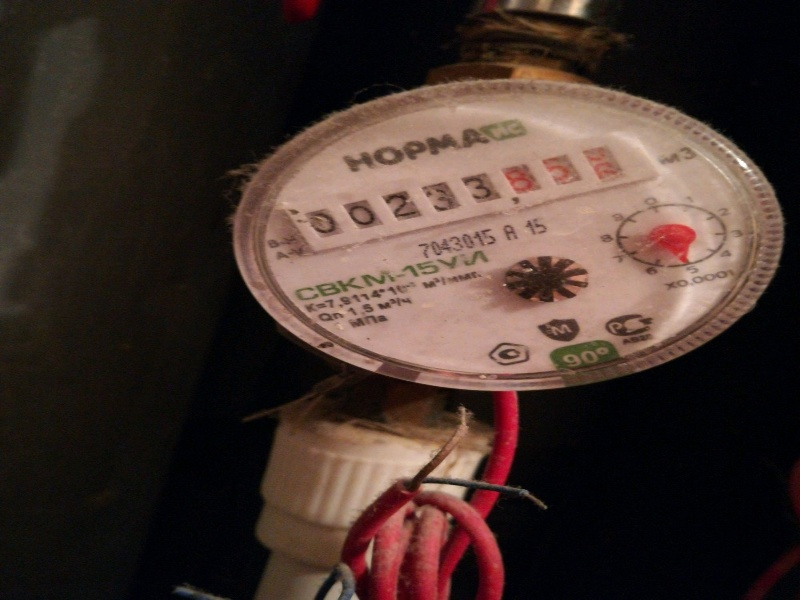dial: (300, 170, 629, 246)
